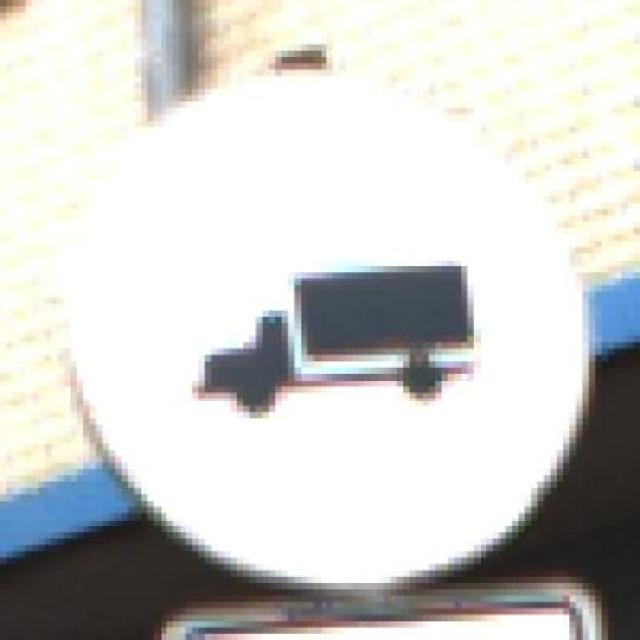Truck traffic is prohibited: (38, 31, 608, 584)
